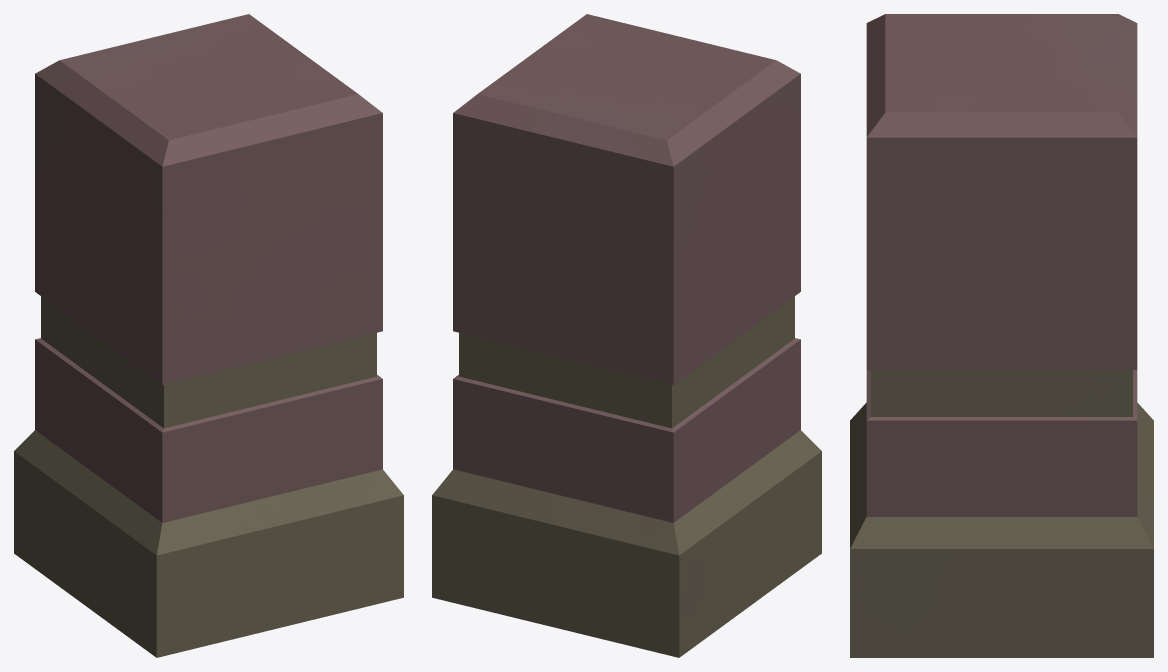
Rendered from SM_Wall_A.fbx.
3 renders of one model, left to right at view 1: azimuth 30°, elevation 25°; view 2: azimuth 150°, elevation 25°; view 3: azimuth 270°, elevation 25°, orthographic. The views are drawn at different scales.
Visible parts, largest first — view 1: wall_A; view 2: wall_A; view 3: wall_A.
Part boxes in pixels (x1,y1,x2,y2): wall_A: [14, 14, 403, 657]; wall_A: [432, 14, 821, 657]; wall_A: [850, 14, 1153, 657].
Size of the model in its own units: 1.12 by 2.16 by 1.12.
Materials: 1 (1 with a texture image).
